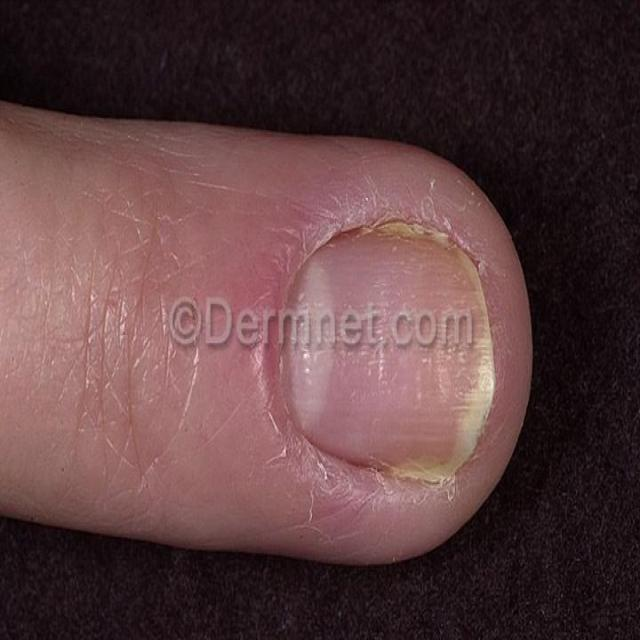Nail: (281, 217, 499, 489)
